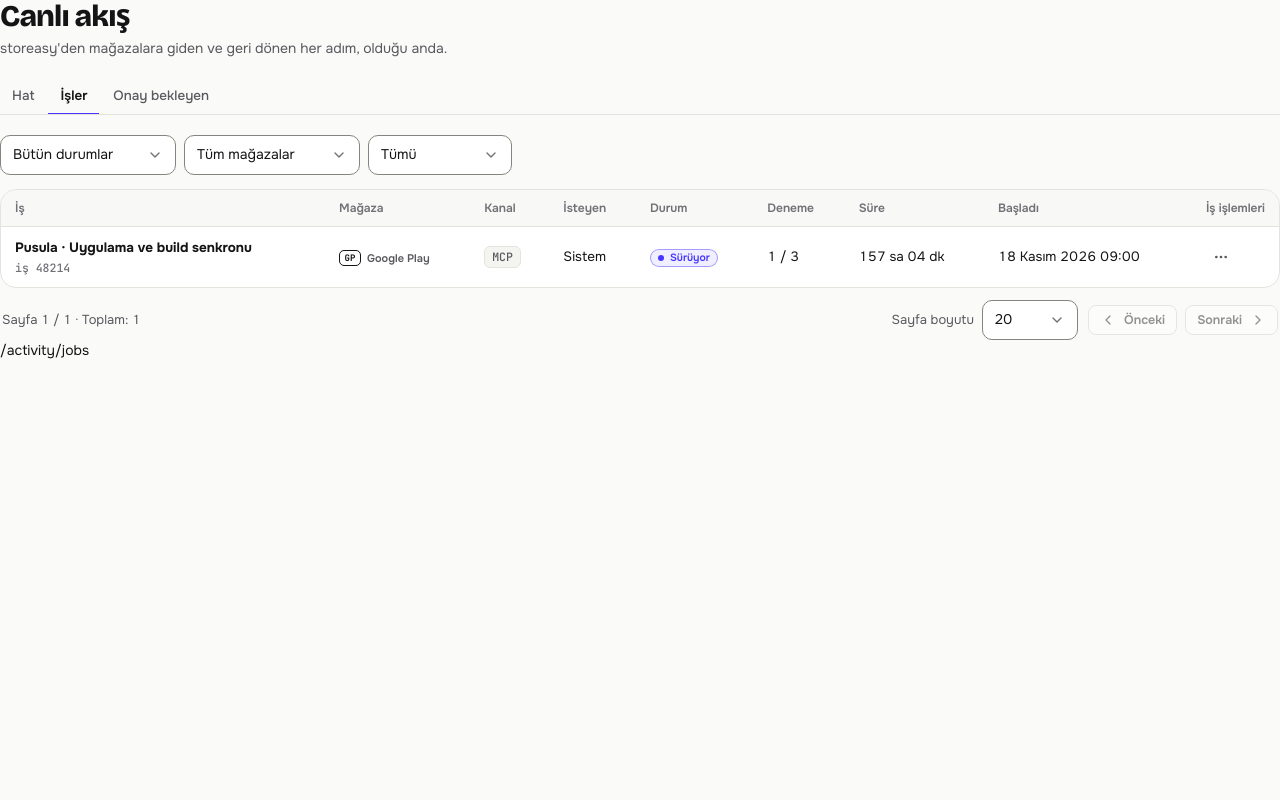
Test: JobsPage › cancels a running job after the confirmation
Click the button named "İş işlemleri" at [1221, 257], box [1206, 242, 1236, 272]
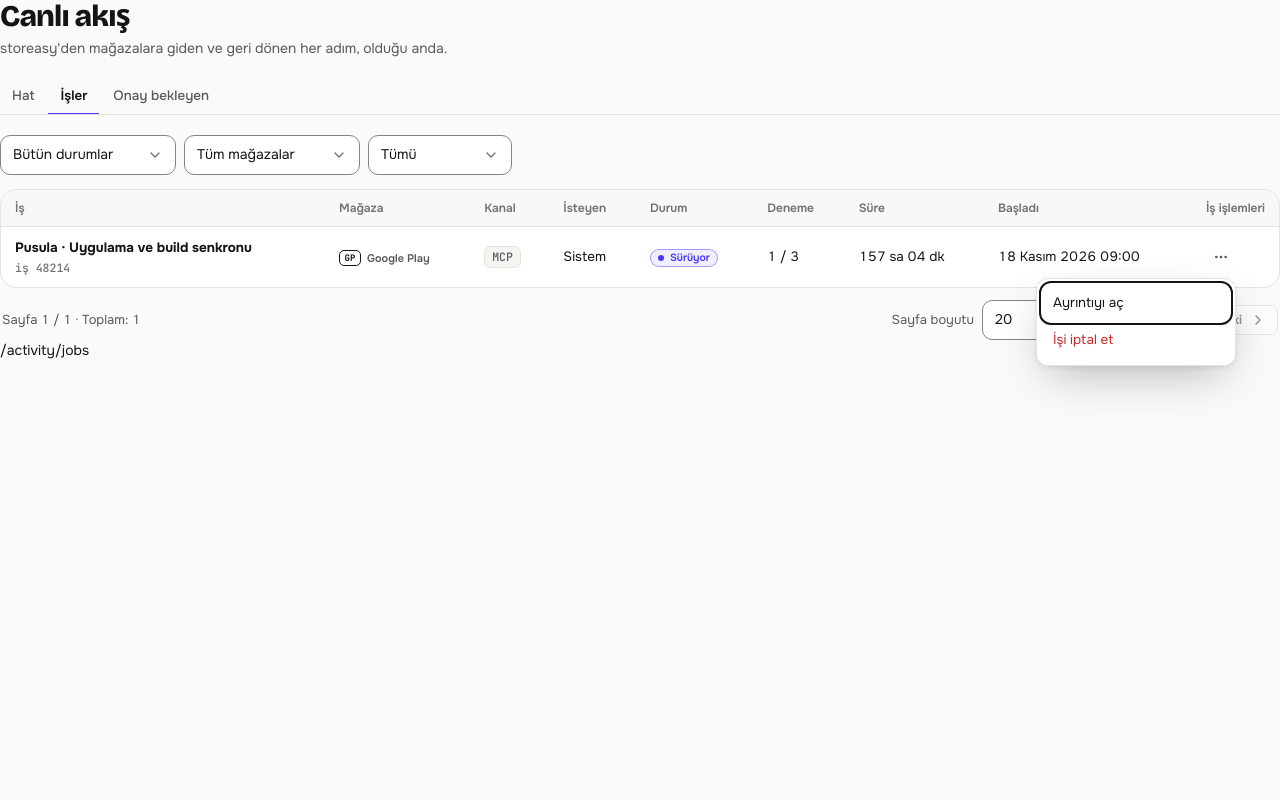
Click the menu item "İşi iptal et" at [1136, 340], box [1043, 322, 1229, 359]
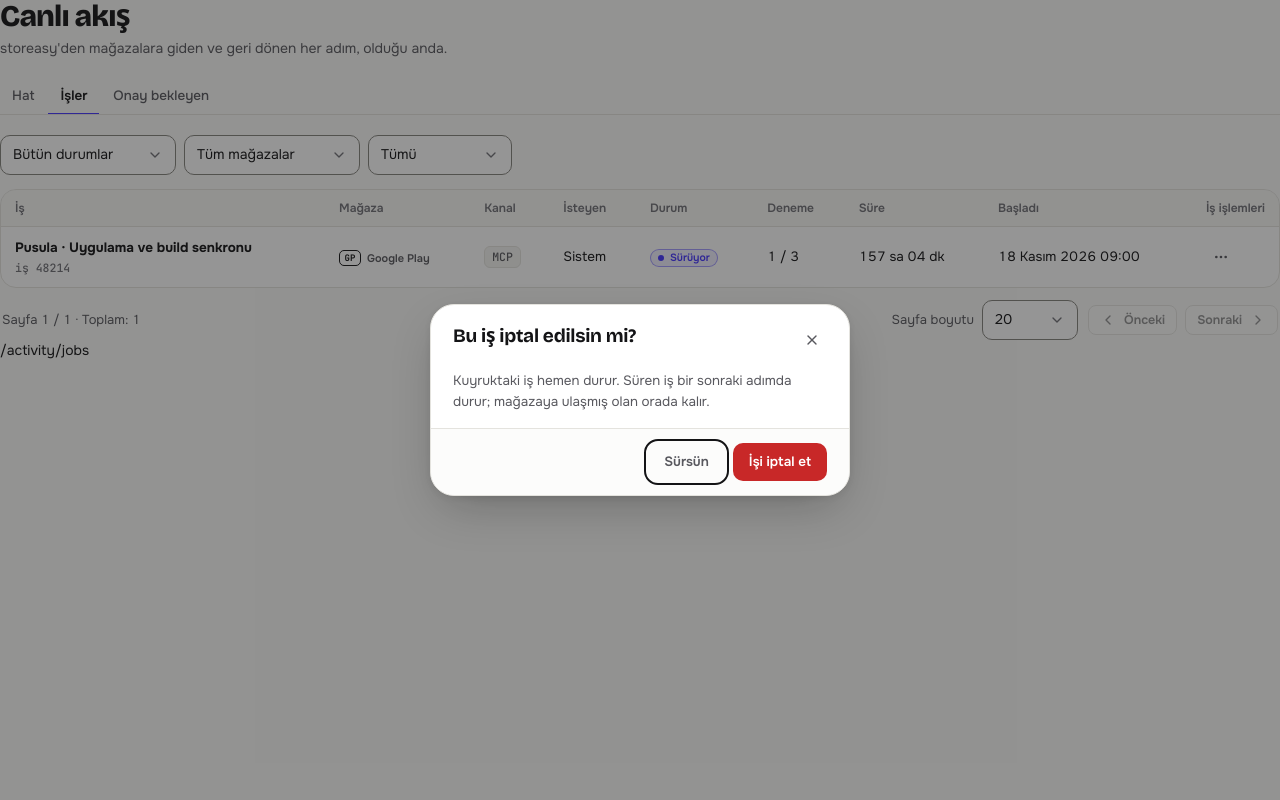
Click the button "İşi iptal et" at [780, 462], box [733, 443, 827, 481]
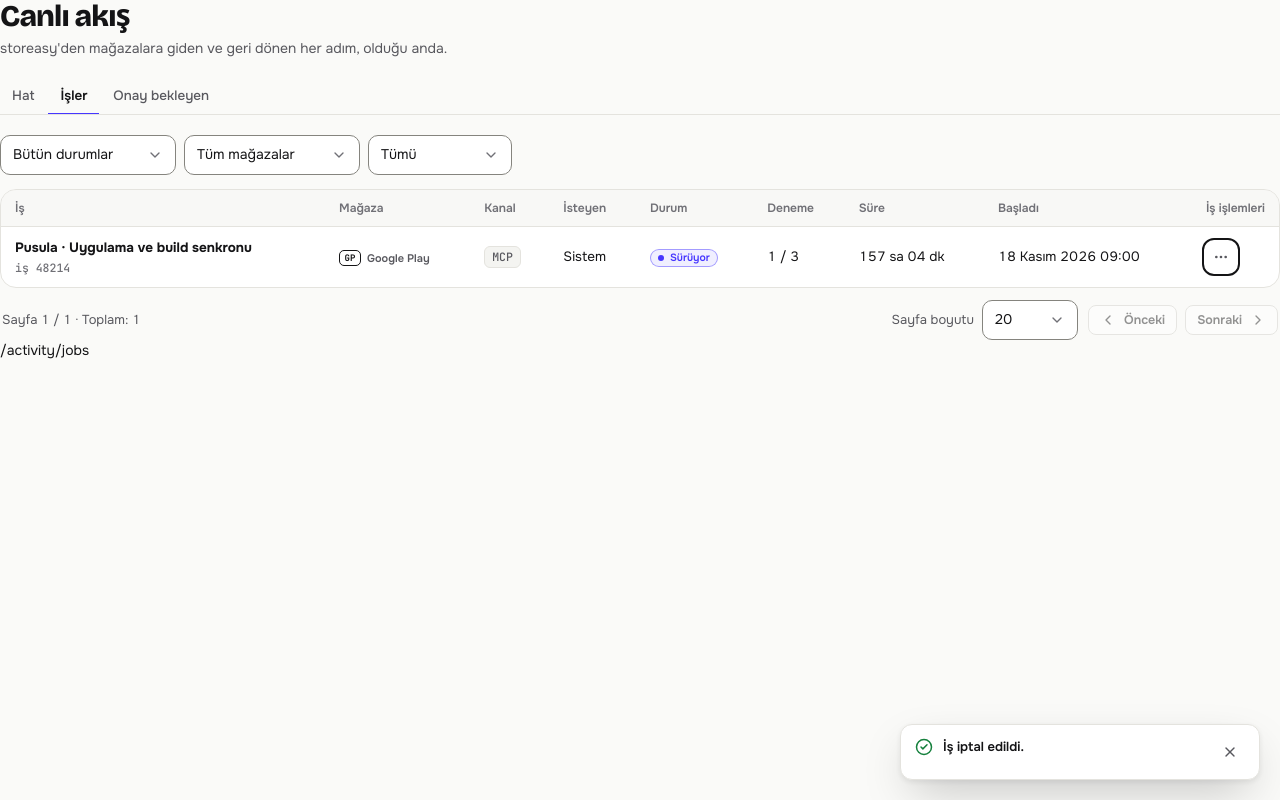
Check: the text "İş iptal edildi." is shown, box [943, 738, 1024, 755]
